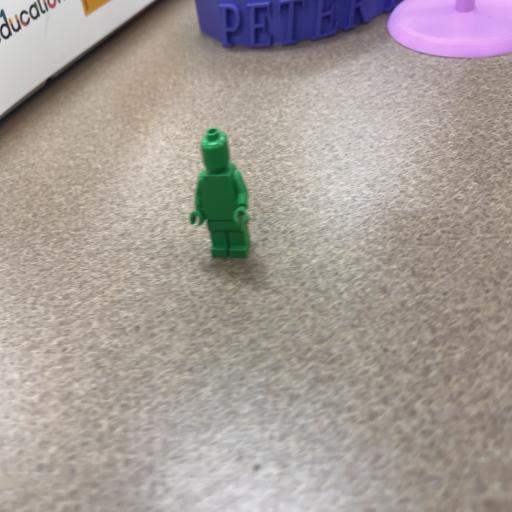Lego-Minifig: (189, 128, 250, 258)
